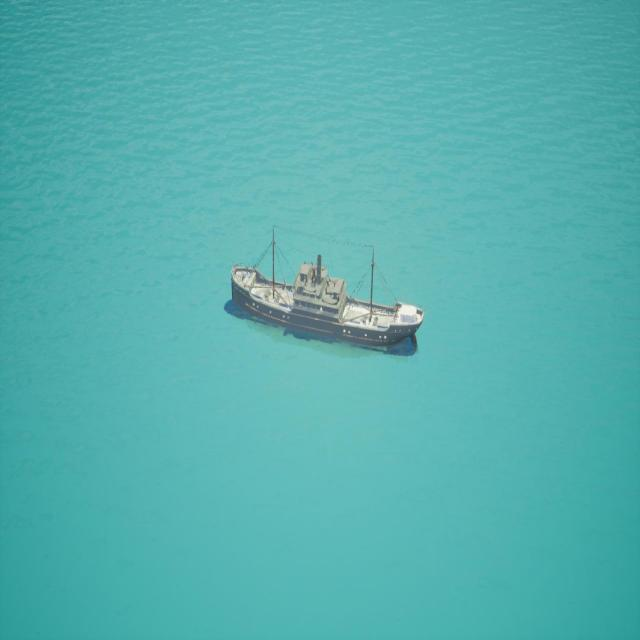fishing ship: (230, 230, 426, 355)
